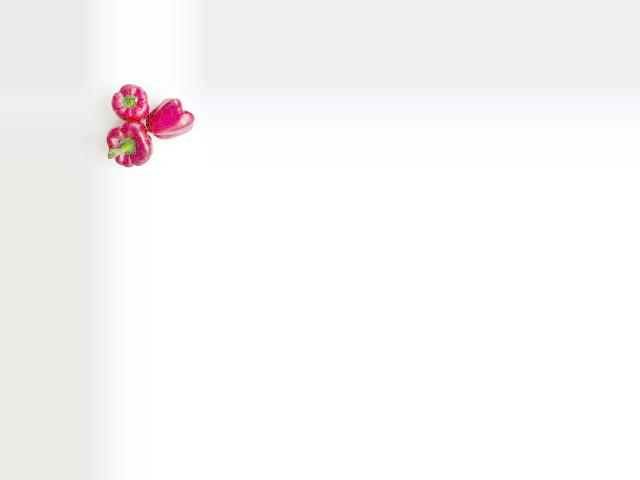bell_pepper: (144, 89, 200, 143)
